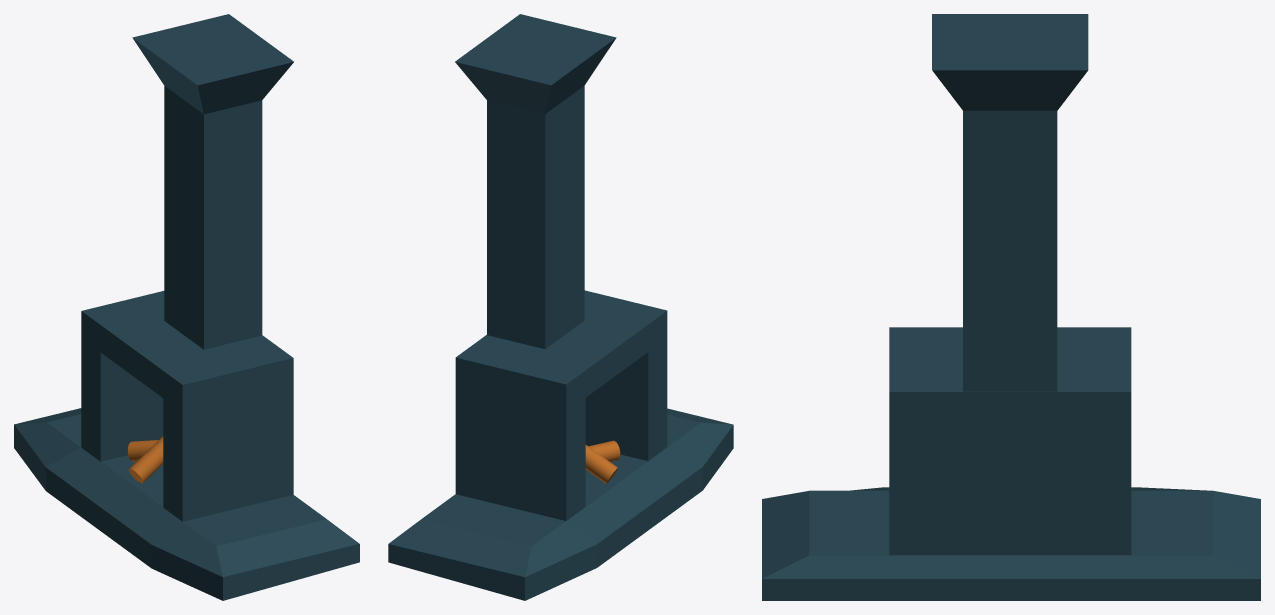
The model's file is CHIMENEA.glb.
3 views of the same model, side by side, from view 1: azimuth 30°, elevation 25°; view 2: azimuth 150°, elevation 25°; view 3: azimuth 270°, elevation 25° (orthographic). The views are drawn at different scales.
Parts seen in each view (by area): view 1: CHIMENEA; view 2: CHIMENEA; view 3: CHIMENEA.
Part boxes in pixels (x1,y1,x2,y2): CHIMENEA: [14, 14, 359, 600]; CHIMENEA: [388, 14, 733, 600]; CHIMENEA: [762, 14, 1260, 600].
Size of the model in its own units: 2.94 by 7.79 by 6.52.
1 material, 1 textured.
